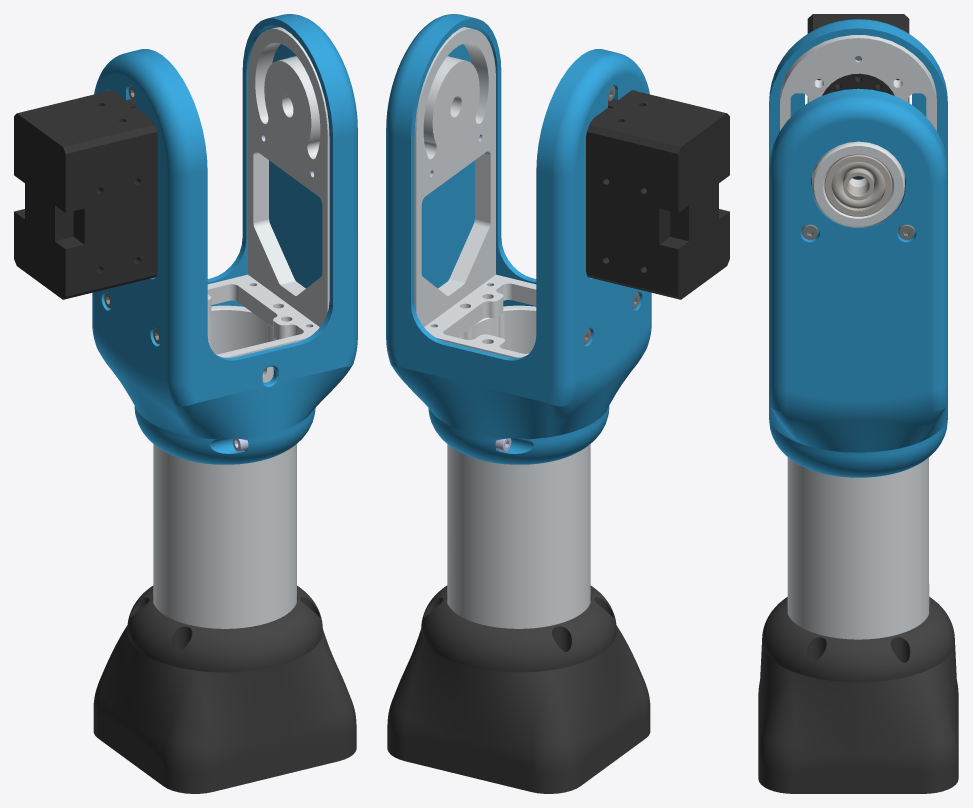
File: forearm_link.dae
The picture shows the model from 3 angles, left to right: view 1: azimuth 30°, elevation 25°; view 2: azimuth 150°, elevation 25°; view 3: azimuth 270°, elevation 25°; orthographic projection.
Parts seen in each view (by area): view 1: Body_20, Body_26, _3DGeom-496, Body_3, Body_21, _3DGeom-254, Body_25, _3DGeom-59; view 2: Body_20, Body_25, Body_3, _3DGeom-496, Body_21, _3DGeom-254, Body_26, _3DGeom-59; view 3: Body_21, _3DGeom-496, Body_25, Body_26, _3DGeom-105, Body_20, _3DGeom-254, Body_5, Body_3, Body_4.
Boxes of the visible parts, box(x1,y1,x2,y2) form: Body_20: box(92, 49, 270, 464); Body_26: box(131, 586, 356, 793); _3DGeom-496: box(153, 305, 296, 628); Body_3: box(14, 90, 157, 299); Body_21: box(207, 14, 357, 460); _3DGeom-254: box(248, 27, 329, 326); Body_25: box(93, 585, 161, 762); _3DGeom-59: box(207, 274, 319, 357); Body_20: box(473, 49, 651, 464); Body_25: box(387, 586, 612, 793); Body_3: box(586, 90, 729, 299); _3DGeom-496: box(447, 305, 590, 628); Body_21: box(386, 14, 536, 460); _3DGeom-254: box(414, 27, 495, 326); Body_26: box(582, 585, 650, 762); _3DGeom-59: box(424, 274, 536, 357); Body_21: box(769, 88, 947, 477); _3DGeom-496: box(787, 457, 929, 639); Body_25: box(858, 597, 958, 793); Body_26: box(758, 597, 858, 793); _3DGeom-105: box(780, 35, 936, 130); Body_20: box(769, 19, 947, 168); _3DGeom-254: box(812, 141, 904, 227); Body_5: box(824, 155, 892, 216); Body_3: box(807, 14, 909, 185); Body_4: box(822, 73, 894, 95).
Bounding box in the file's own units: 0.09 × 0.056 × 0.213.
